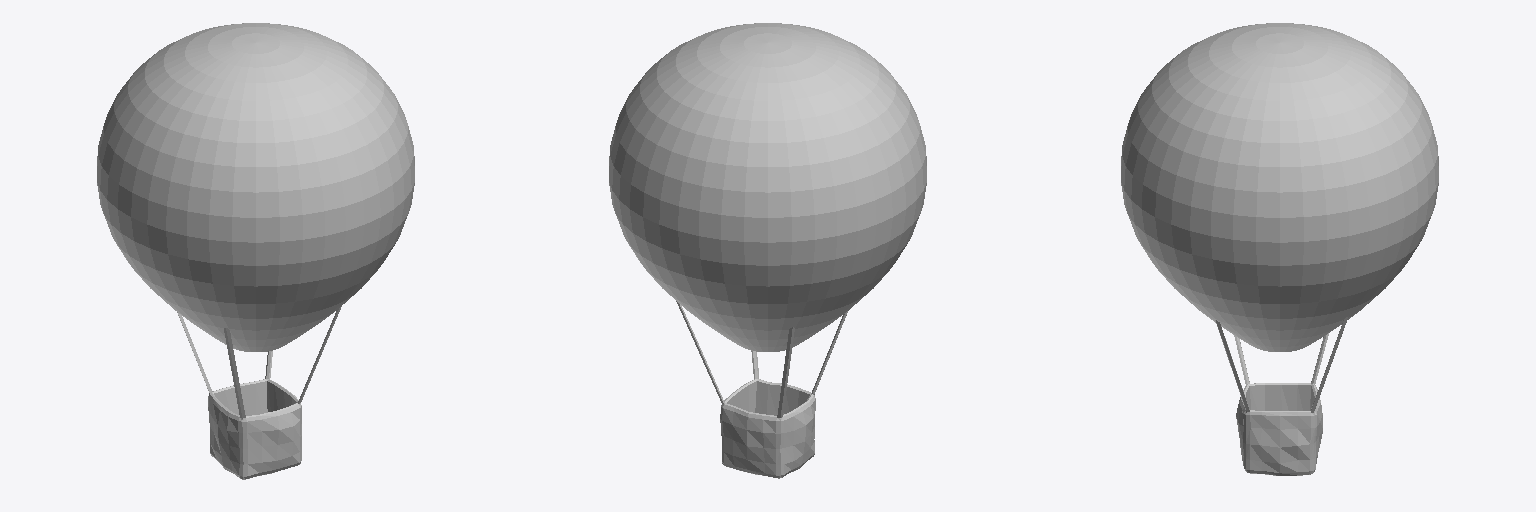
File: balloon.obj
3 views of the same model, side by side, from view 1: azimuth 30°, elevation 25°; view 2: azimuth 150°, elevation 25°; view 3: azimuth 270°, elevation 25° (orthographic).
Visible parts, largest first — view 1: mongolfiere; view 2: mongolfiere; view 3: mongolfiere.
Boxes of the visible parts, x1=… form: mongolfiere: x1=97, y1=23, x2=414, y2=479; mongolfiere: x1=609, y1=23, x2=926, y2=478; mongolfiere: x1=1121, y1=23, x2=1438, y2=475.
Bounding box in the file's own units: 3.2 × 4.71 × 3.19.